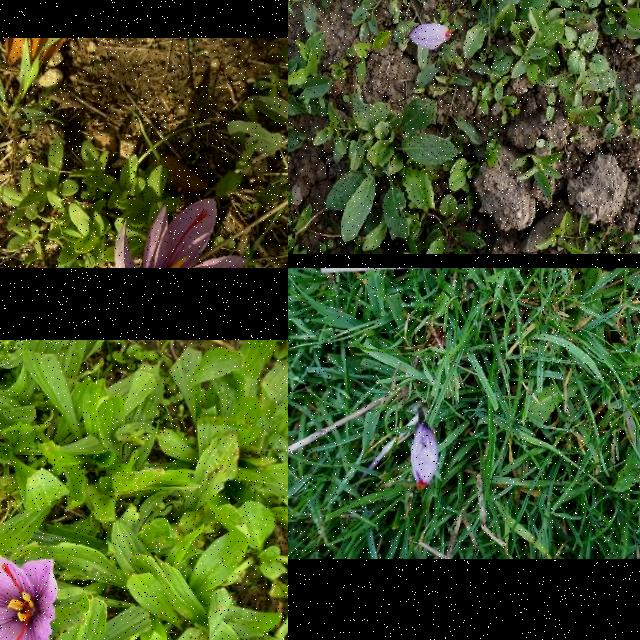flower: (114, 197, 246, 268), (0, 555, 59, 640), (410, 424, 440, 492), (408, 24, 452, 51)
